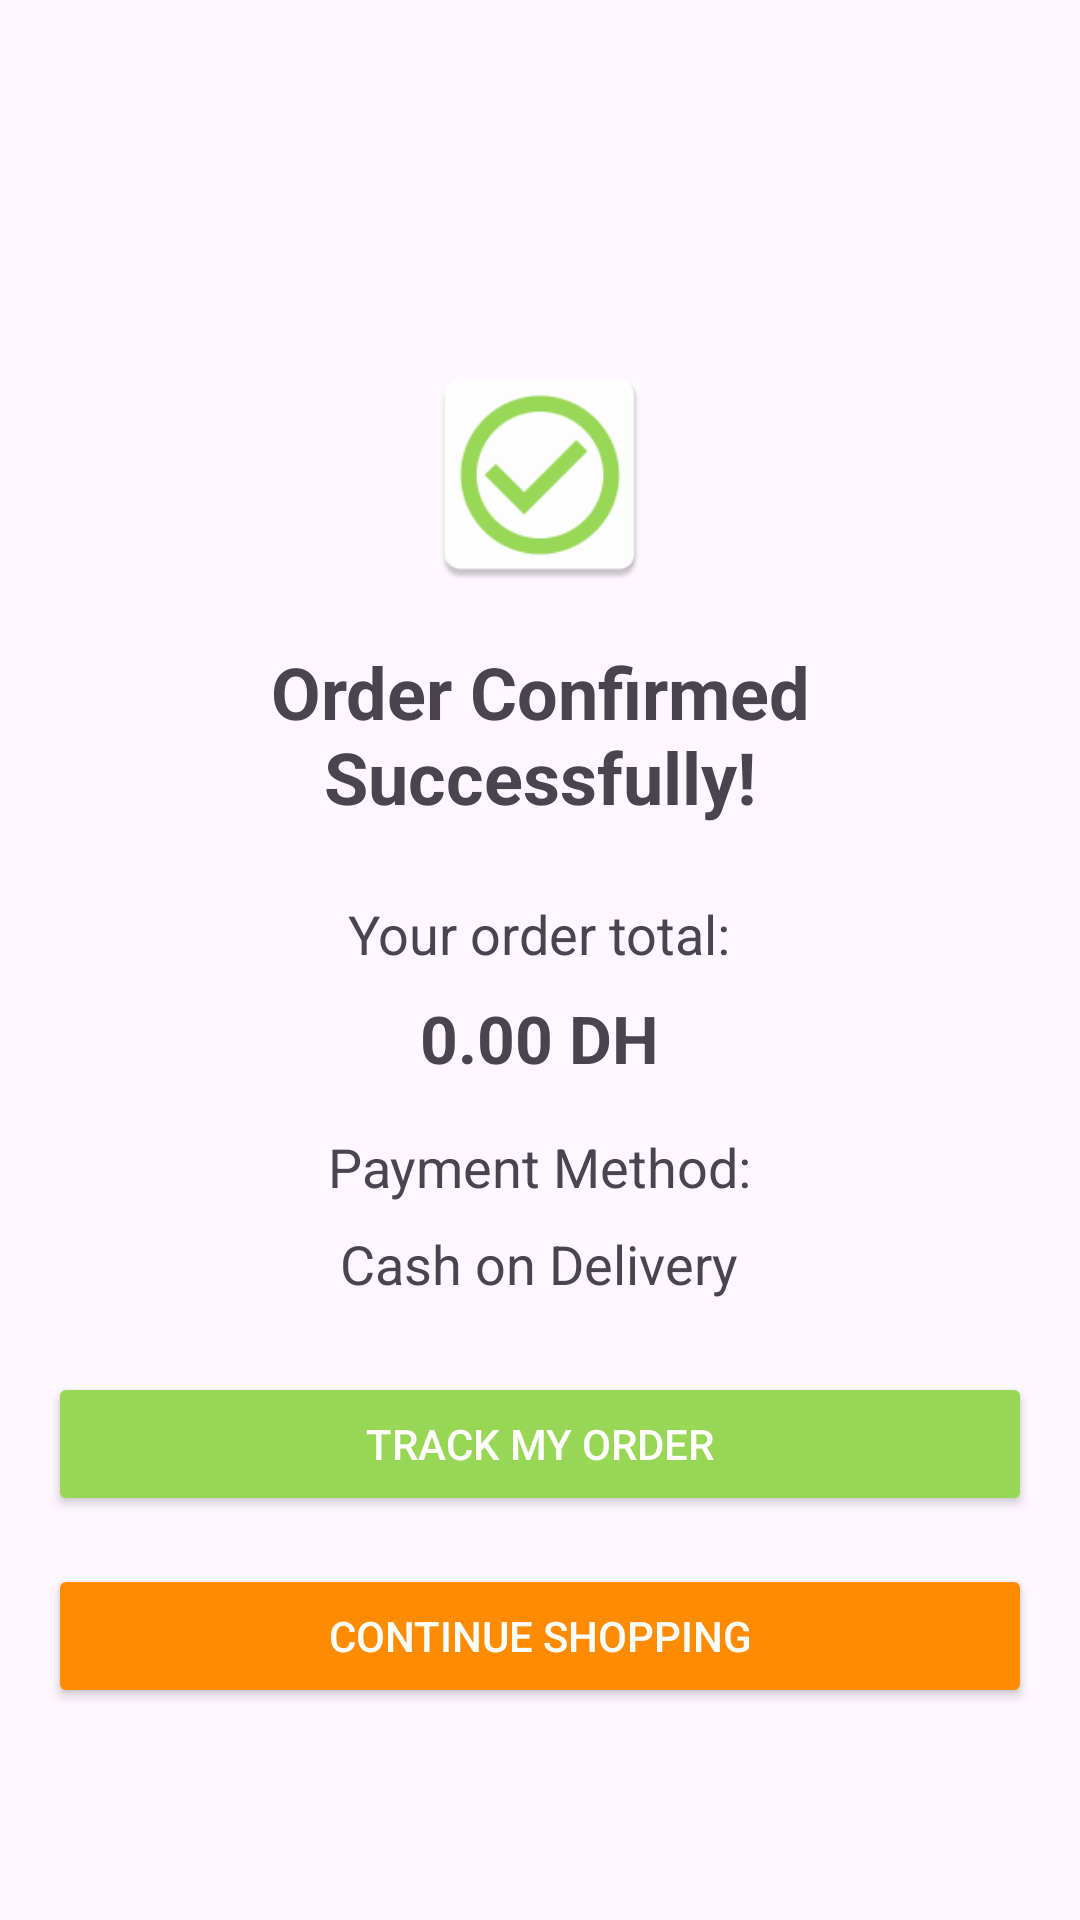

Where icons sit on this 1080w x 1920h app screen, as (x1, y1, x2, y2):
Success check mark: (445, 391, 636, 576)
